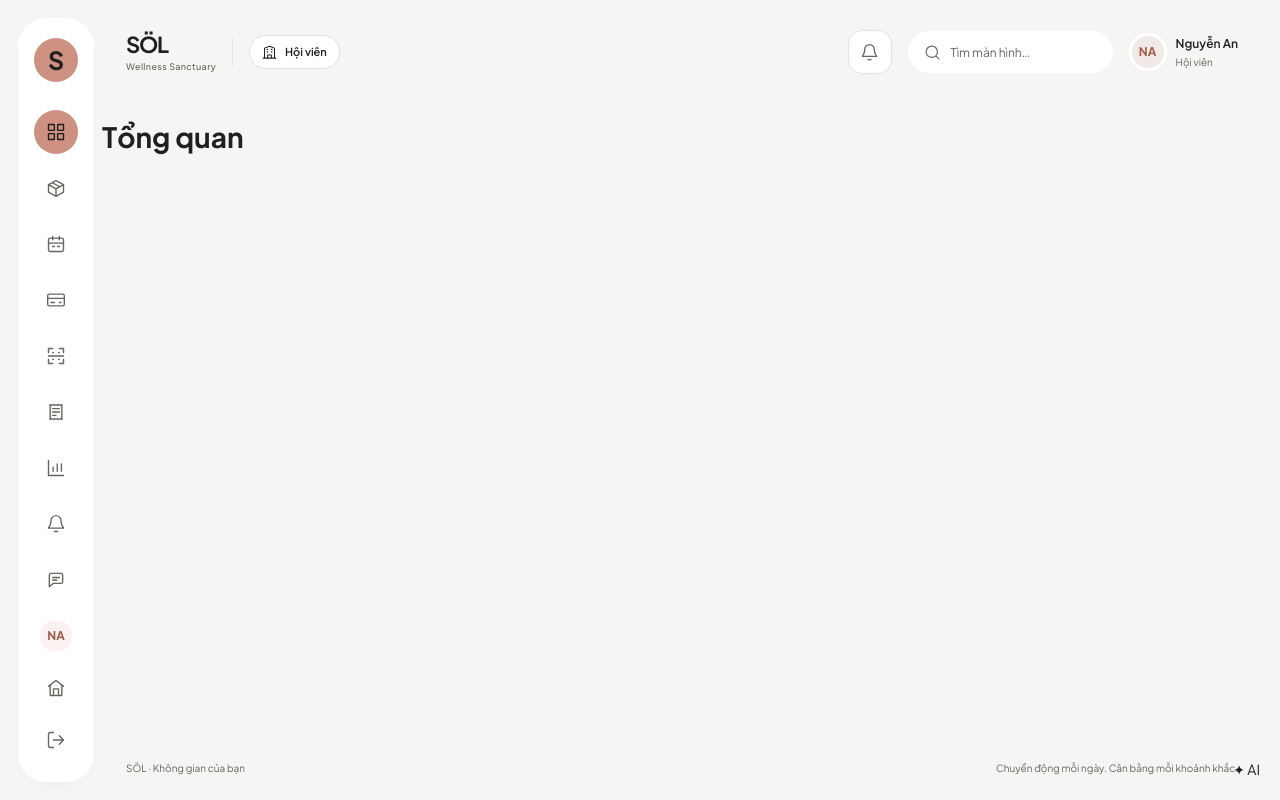
Test: portal navigation › keeps the session when logout confirmation is dismissed
Click the button named "Đăng xuất".
click(56, 740)  # box x1=34 y1=718 x2=78 y2=762
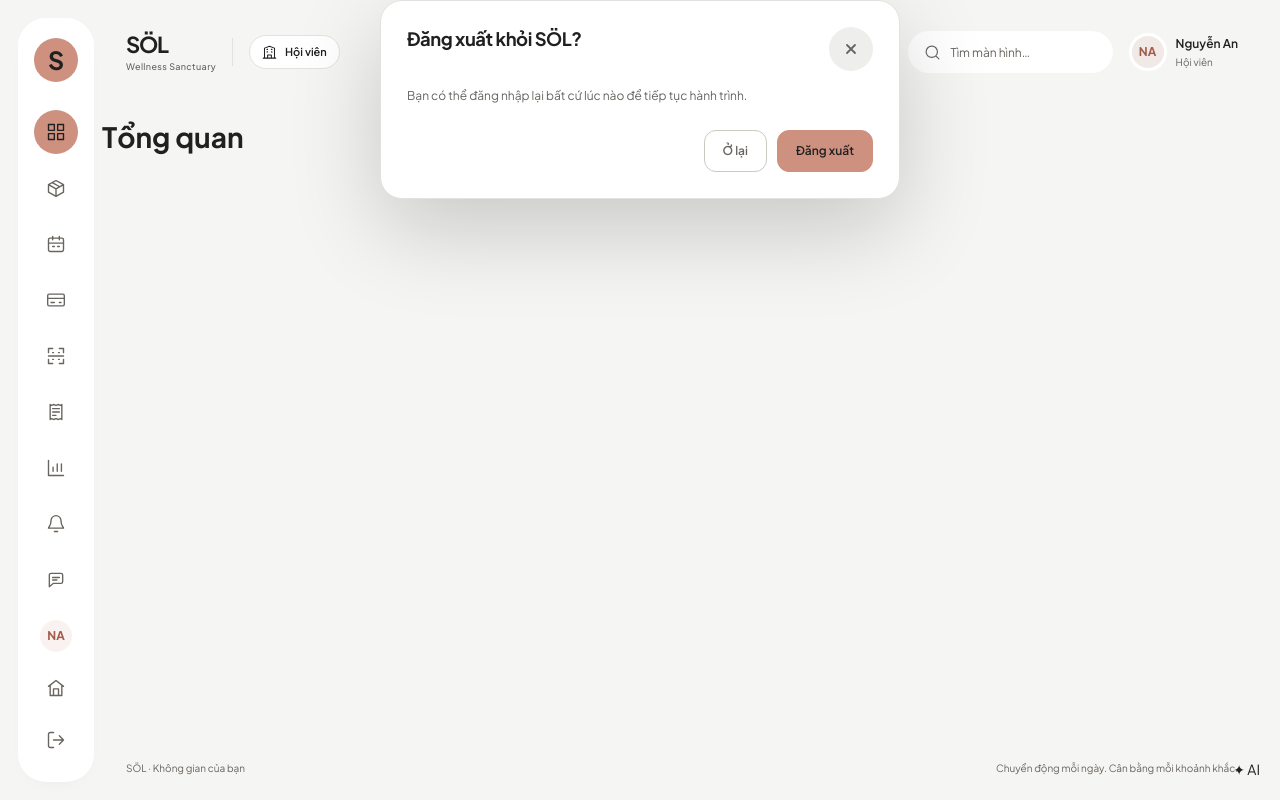
Now the button "Ở lại" is shown
Click the button "Ở lại".
click(735, 151)  # box x1=704 y1=130 x2=767 y2=172
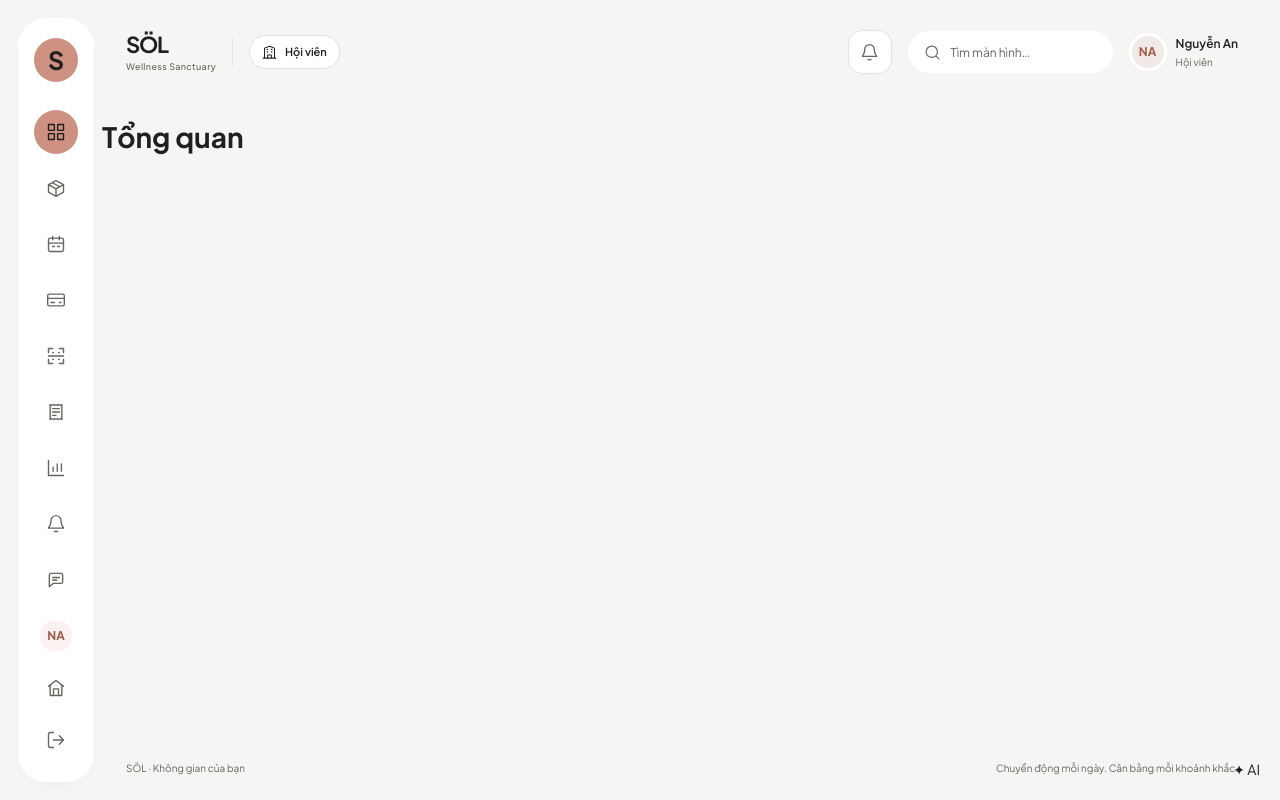
Now the dialog is gone
